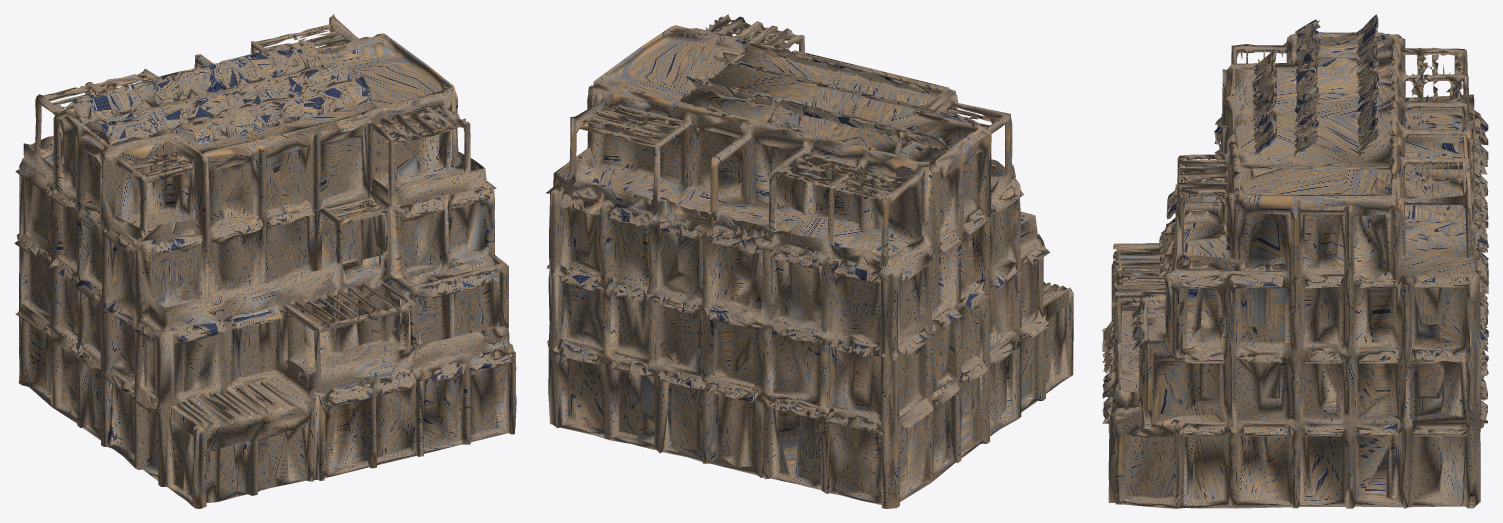
File: extra_lod1.glb
3 views of the same model, side by side, from view 1: azimuth 30°, elevation 25°; view 2: azimuth 150°, elevation 25°; view 3: azimuth 270°, elevation 25° (orthographic). The views are drawn at different scales.
Size of the model in its own units: 2 by 1.76 by 1.86.
Materials: 1 (1 with a texture image).
